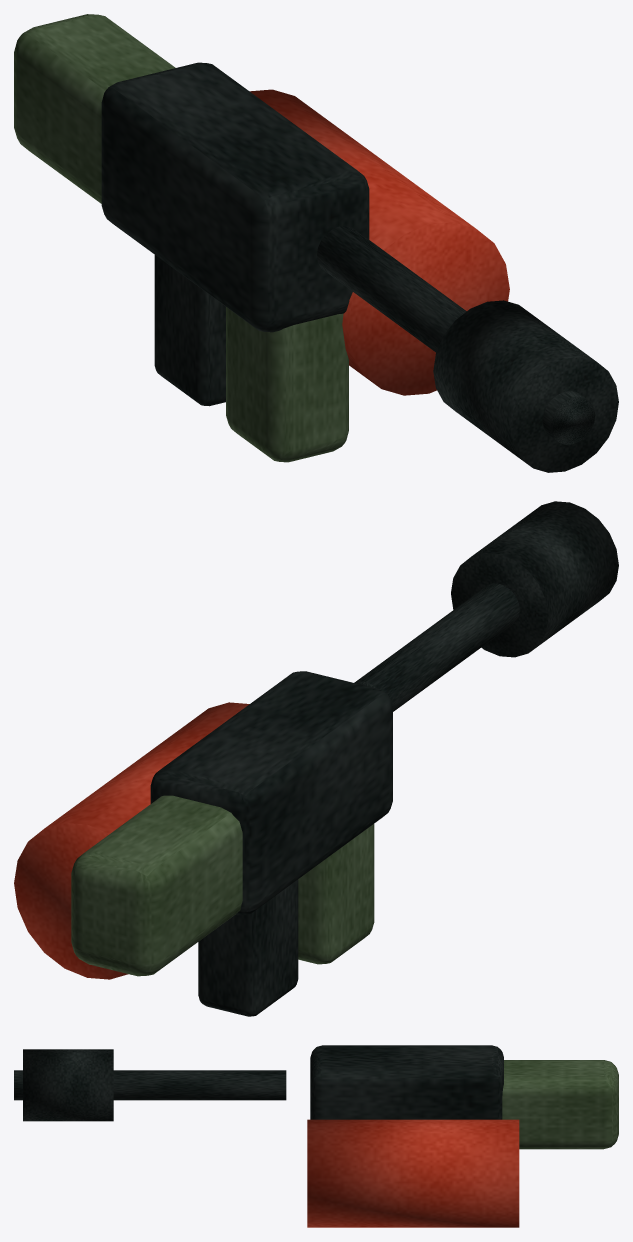
The model's file is weapon_flame.glb.
3 renders of one model, top to bottom at view 1: azimuth 30°, elevation 25°; view 2: azimuth 150°, elevation 25°; view 3: azimuth 270°, elevation 25°, orthographic. The views are drawn at different scales.
Visible parts, largest first — view 1: Receiver.006, Fuel cylinder, Flame nozzle, Stock.004, Magazine.006, Barrel.006, Grip.004; view 2: Receiver.006, Stock.004, Flame nozzle, Fuel cylinder, Grip.004, Magazine.006, Barrel.006; view 3: Fuel cylinder, Receiver.006, Stock.004, Flame nozzle, Barrel.006.
Part boxes in pixels (x1,y1,x2,y2): Receiver.006: [101, 62, 369, 332]; Fuel cylinder: [250, 89, 509, 395]; Flame nozzle: [433, 300, 618, 472]; Stock.004: [14, 14, 175, 203]; Magazine.006: [226, 307, 348, 462]; Barrel.006: [317, 226, 595, 444]; Grip.004: [154, 255, 225, 406]; Receiver.006: [150, 671, 392, 915]; Stock.004: [71, 795, 242, 976]; Flame nozzle: [451, 501, 618, 657]; Fuel cylinder: [14, 702, 249, 979]; Grip.004: [198, 879, 298, 1016]; Magazine.006: [298, 824, 374, 964]; Barrel.006: [354, 583, 519, 711]; Fuel cylinder: [307, 1119, 519, 1227]; Receiver.006: [310, 1045, 503, 1119]; Stock.004: [502, 1060, 618, 1149]; Flame nozzle: [23, 1049, 113, 1121]; Barrel.006: [14, 1070, 286, 1100].
Bounding box in the file's own units: 0.275 × 0.305 × 1.
Materials: 3 (3 with a texture image).
